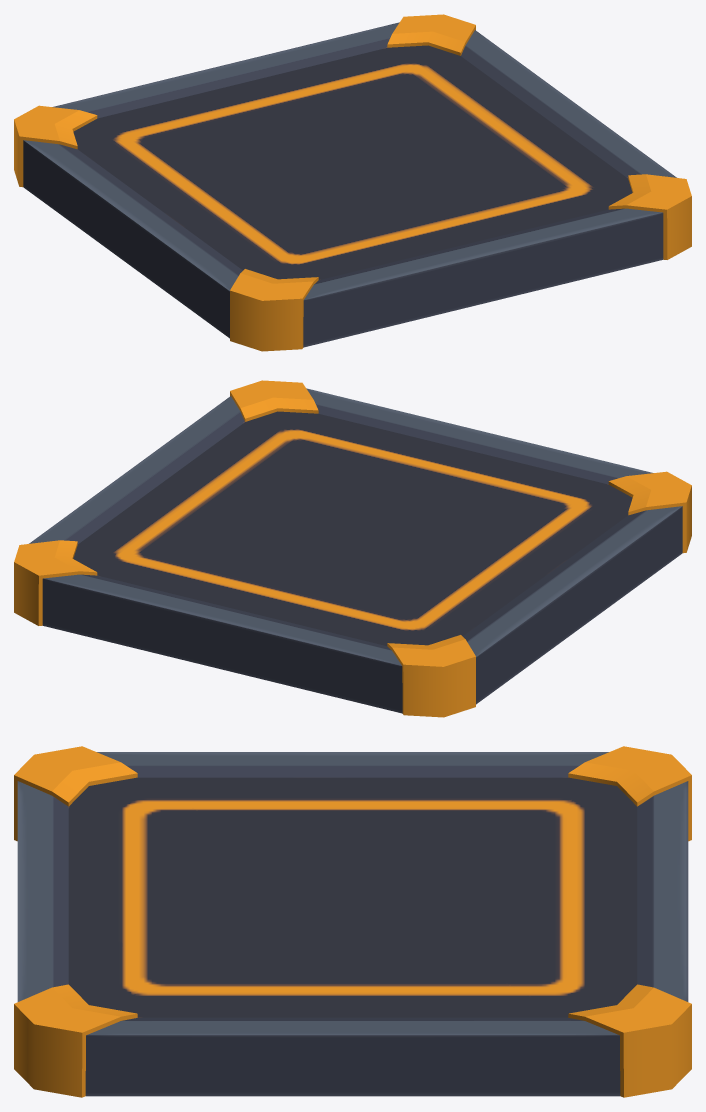
File: moving_ground.fbx
The picture shows the model from 3 angles, top to bottom: view 1: azimuth 30°, elevation 25°; view 2: azimuth 150°, elevation 25°; view 3: azimuth 270°, elevation 25°; orthographic projection. The views are drawn at different scales.
Visible parts, largest first — view 1: Plane.004; view 2: Plane.004; view 3: Plane.004.
Boxes of the visible parts, box(x1,y1,x2,y2) form: Plane.004: box(14, 14, 691, 351); Plane.004: box(14, 380, 691, 717); Plane.004: box(14, 746, 691, 1097).
Bounding box in the file's own units: 1011 × 107 × 1011.
